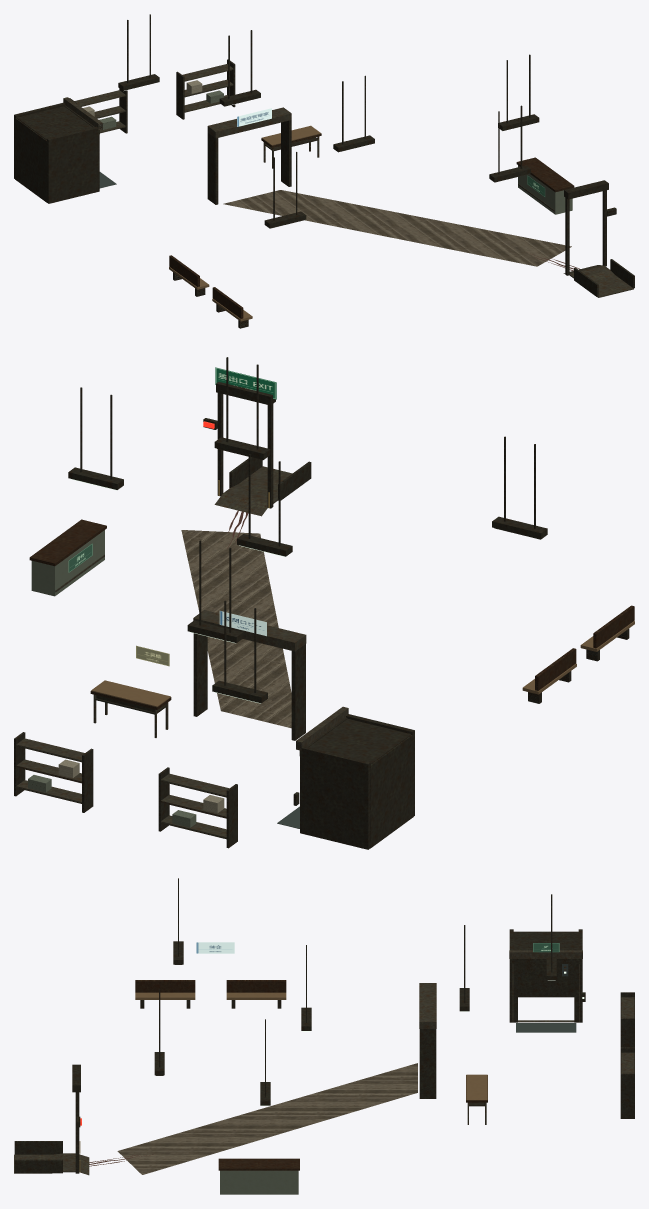
Rendered from school_floor1_layout.glb.
The picture shows the model from 3 angles, top to bottom: view 1: azimuth 30°, elevation 25°; view 2: azimuth 150°, elevation 25°; view 3: azimuth 270°, elevation 25°; orthographic projection. The views are drawn at different scales.
Visible parts, largest first — view 1: Lobby walking strip / Terrazzo, Elevator surround / Frame, Details -2 -2 / Frame, Management shelves / Steel, Details 0 1 / Frame, Management passage jamb / Frame, Management shelves / Frame, Management passage header / Steel, Details 1 0 / Enamel, Details 1 0 / Wood Edge, Vestibule rails / Frame, Details -1 -1 / Frame (+7 smaller); view 2: Lobby walking strip / Terrazzo, Elevator surround / Frame, Details -2 -2 / Frame, Management shelves / Steel, Management passage jamb / Frame, Management shelves / Frame, Details 0 1 / Frame, Details 1 0 / Enamel, Details 1 0 / Wood Edge, Management passage header / Steel, Details 1 0 / Frame, Details -1 -2 / Frame (+11 smaller); view 3: Lobby walking strip / Terrazzo, Details -2 -2 / Frame, Details 1 0 / Enamel, Management shelves / Frame, Vestibule rails / Frame, Management passage jamb / Frame, Details 1 0 / Wood Edge, Management passage header / Steel, Details -2 0 / Wood Edge, Details -2 1 / Wood Edge, Details 0 1 / Frame, Elevator surround / Frame (+7 smaller).
Part boxes in pixels (x1=…): Lobby walking strip / Terrazzo: x1=223, y1=190, x2=571, y2=266; Elevator surround / Frame: x1=14, y1=102, x2=99, y2=203; Details -2 -2 / Frame: x1=15, y1=105, x2=99, y2=202; Management shelves / Steel: x1=74, y1=64, x2=233, y2=133; Details 0 1 / Frame: x1=489, y1=105, x2=608, y2=275; Management passage jamb / Frame: x1=207, y1=120, x2=291, y2=204; Management shelves / Frame: x1=69, y1=59, x2=235, y2=133; Management passage header / Steel: x1=207, y1=107, x2=291, y2=138; Details 1 0 / Enamel: x1=518, y1=165, x2=572, y2=214; Details 1 0 / Wood Edge: x1=516, y1=157, x2=574, y2=192; Vestibule rails / Frame: x1=574, y1=259, x2=634, y2=297; Details -1 -1 / Frame: x1=219, y1=30, x2=260, y2=106; Lobby walking strip / Terrazzo: x1=181, y1=530, x2=291, y2=728; Elevator surround / Frame: x1=300, y1=714, x2=414, y2=849; Details -2 -2 / Frame: x1=299, y1=717, x2=413, y2=848; Management shelves / Steel: x1=16, y1=738, x2=229, y2=839; Management passage jamb / Frame: x1=193, y1=633, x2=305, y2=740; Management shelves / Frame: x1=14, y1=732, x2=237, y2=848; Details 0 1 / Frame: x1=214, y1=357, x2=275, y2=508; Details 1 0 / Enamel: x1=31, y1=530, x2=104, y2=596; Details 1 0 / Wood Edge: x1=29, y1=519, x2=106, y2=566; Management passage header / Steel: x1=193, y1=610, x2=306, y2=651; Details 1 0 / Frame: x1=68, y1=387, x2=123, y2=489; Details -1 -2 / Frame: x1=212, y1=600, x2=267, y2=703; Lobby walking strip / Terrazzo: x1=117, y1=1063, x2=417, y2=1174; Details -2 -2 / Frame: x1=512, y1=931, x2=580, y2=1022; Details 1 0 / Enamel: x1=220, y1=1170, x2=298, y2=1194; Management shelves / Frame: x1=620, y1=992, x2=634, y2=1118; Vestibule rails / Frame: x1=14, y1=1141, x2=62, y2=1173; Management passage jamb / Frame: x1=419, y1=1029, x2=436, y2=1098; Details 1 0 / Wood Edge: x1=218, y1=1158, x2=299, y2=1170; Management passage header / Steel: x1=419, y1=983, x2=436, y2=1028; Details -2 0 / Wood Edge: x1=226, y1=980, x2=286, y2=992; Details -2 1 / Wood Edge: x1=135, y1=980, x2=195, y2=992; Details 0 1 / Frame: x1=72, y1=989, x2=164, y2=1092; Elevator surround / Frame: x1=509, y1=929, x2=582, y2=1022.
Size of the model in its own units: 22.43 by 8.03 by 29.62.
Materials: 15 (10 with a texture image).
